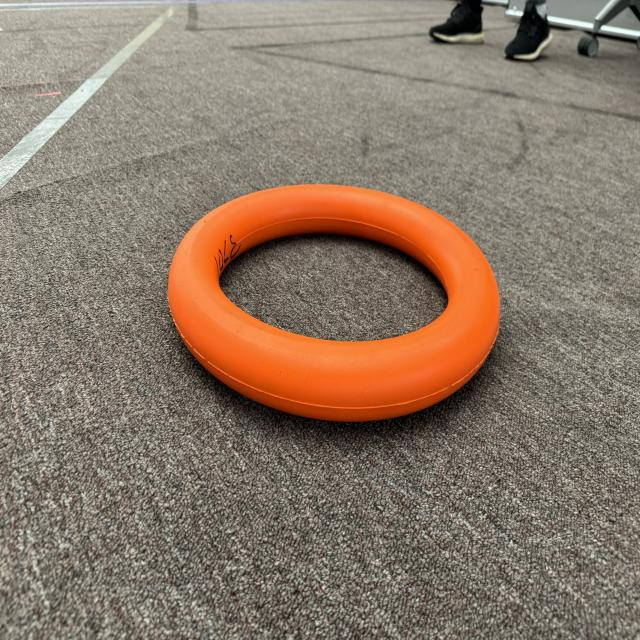note: (156, 175, 514, 439)
